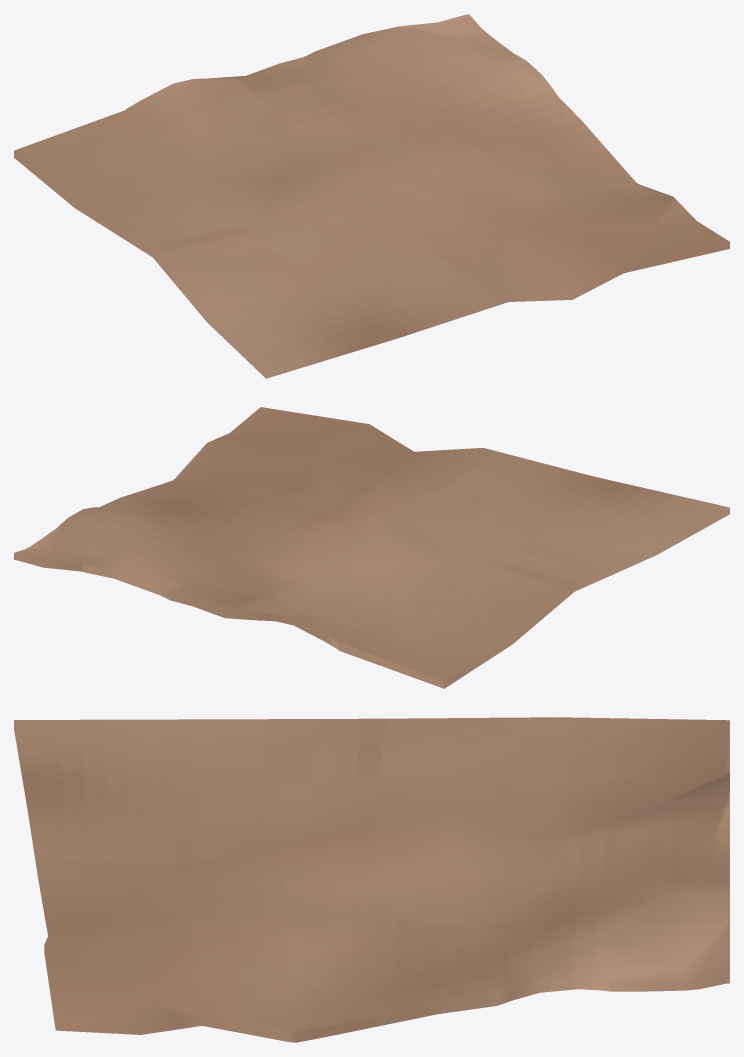
3 views of the same model, one above another, from view 1: azimuth 30°, elevation 25°; view 2: azimuth 150°, elevation 25°; view 3: azimuth 270°, elevation 25° (orthographic). The views are drawn at different scales.
Bounding box in the file's own units: 4 × 0.4985 × 4.
1 material, 1 textured.
